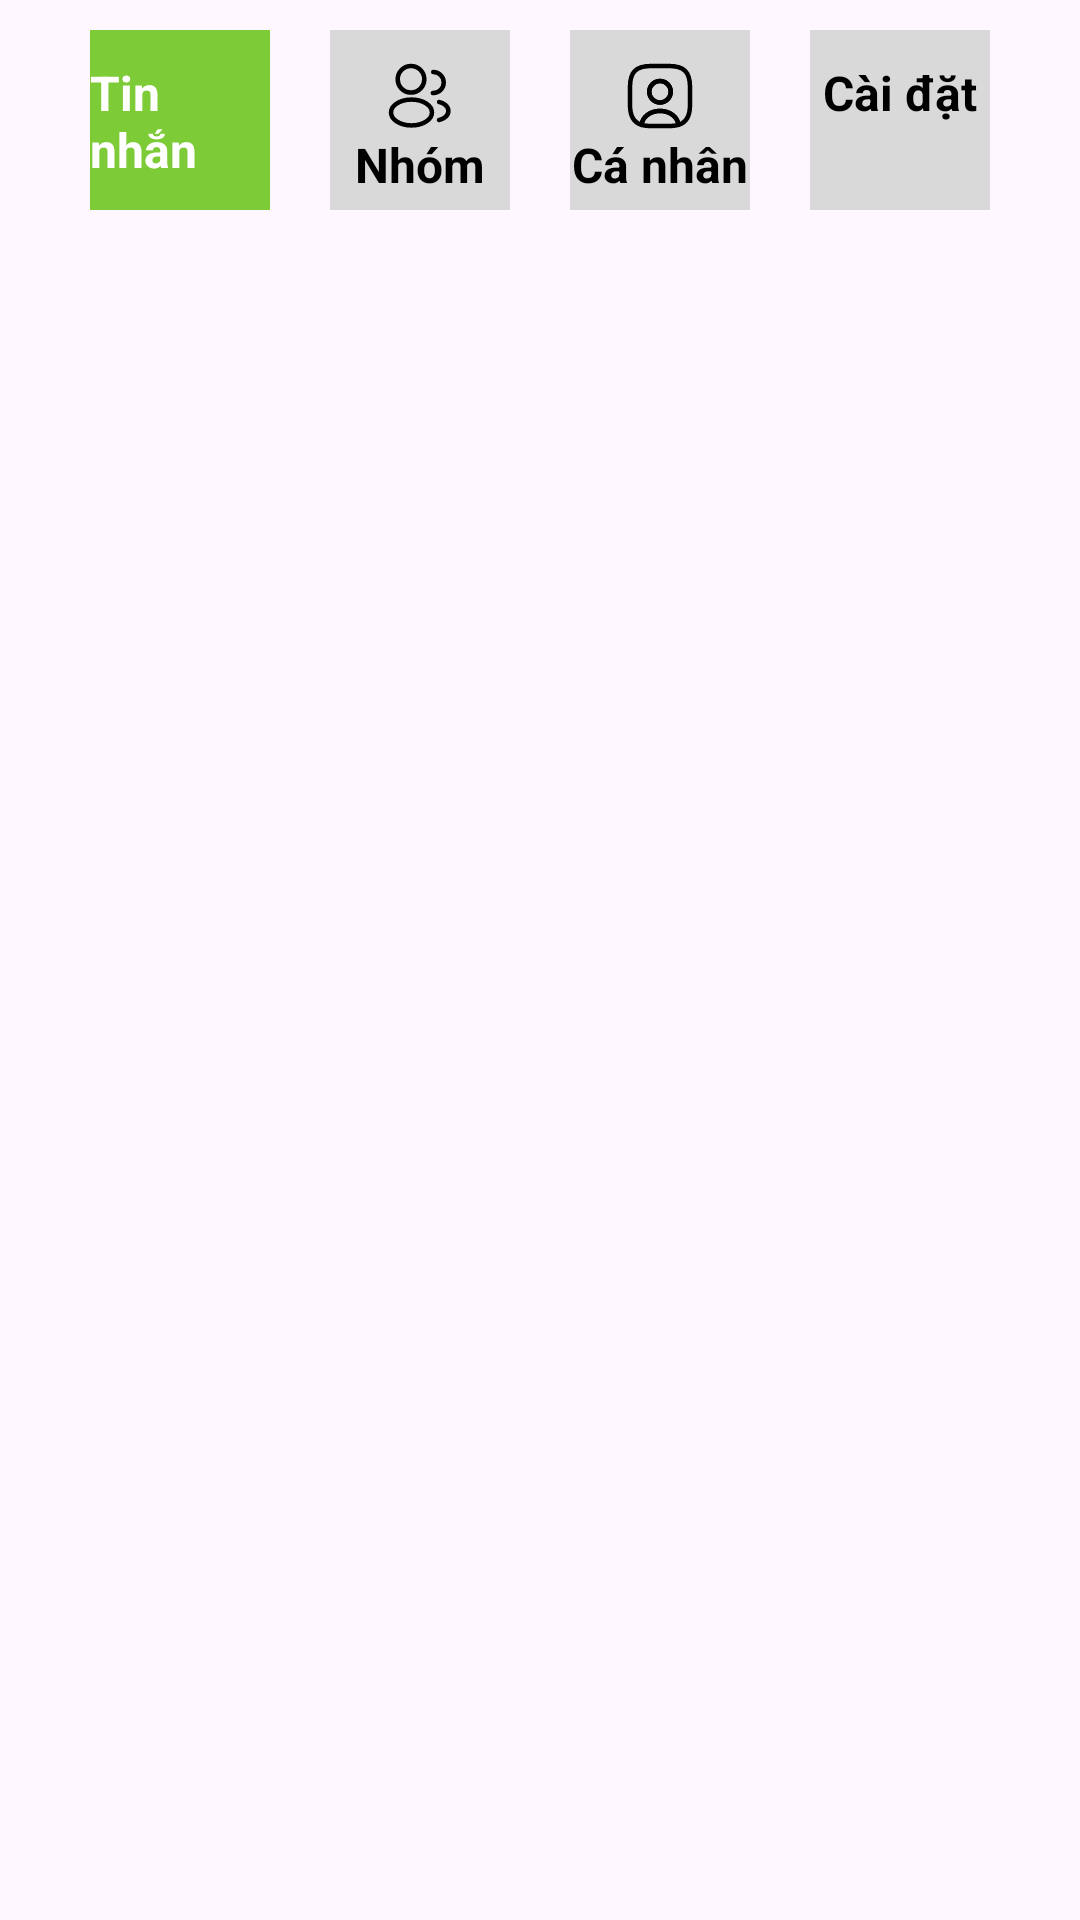

Screen size 1080w x 1920h. Icon name, then its center in pixels as point (x, y):
profile 2user: point (419, 95)
user square: point (660, 96)
